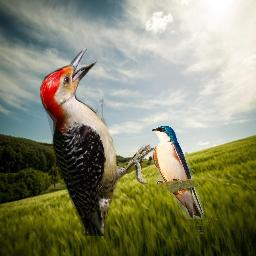Swallow: (151, 125, 204, 219)
Woodpecker: (40, 48, 163, 236)
